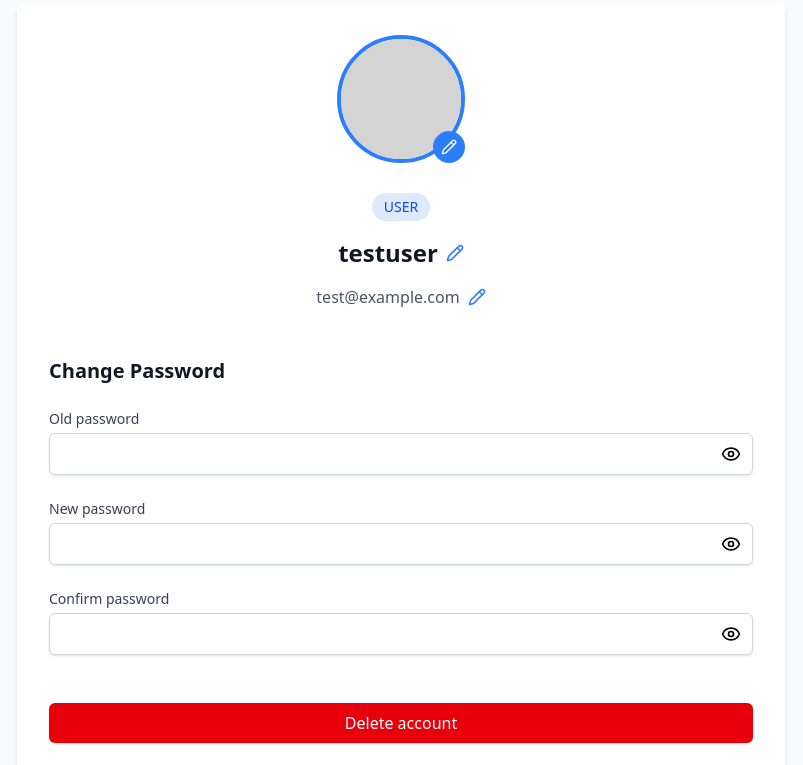
Account Component › should show error message when updateUser fails
Expected: the heading "testuser" is shown, [338,237,438,269]
Click the button without text next to "testuser" at point(455, 253), box [446,244,464,262]
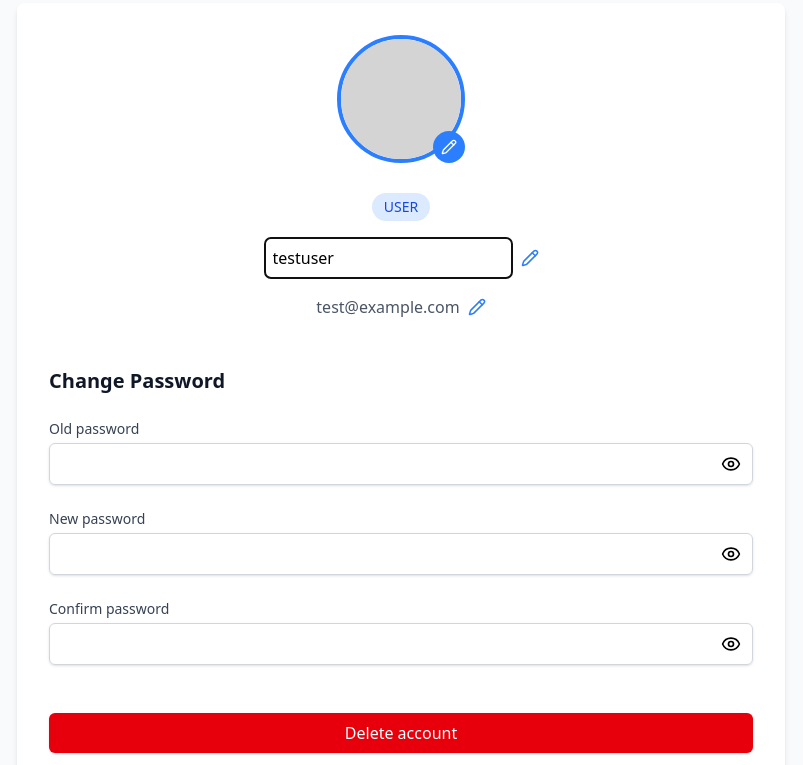
Replace the text in the field with "newuser" at point(388, 258), box [264,237,512,279]
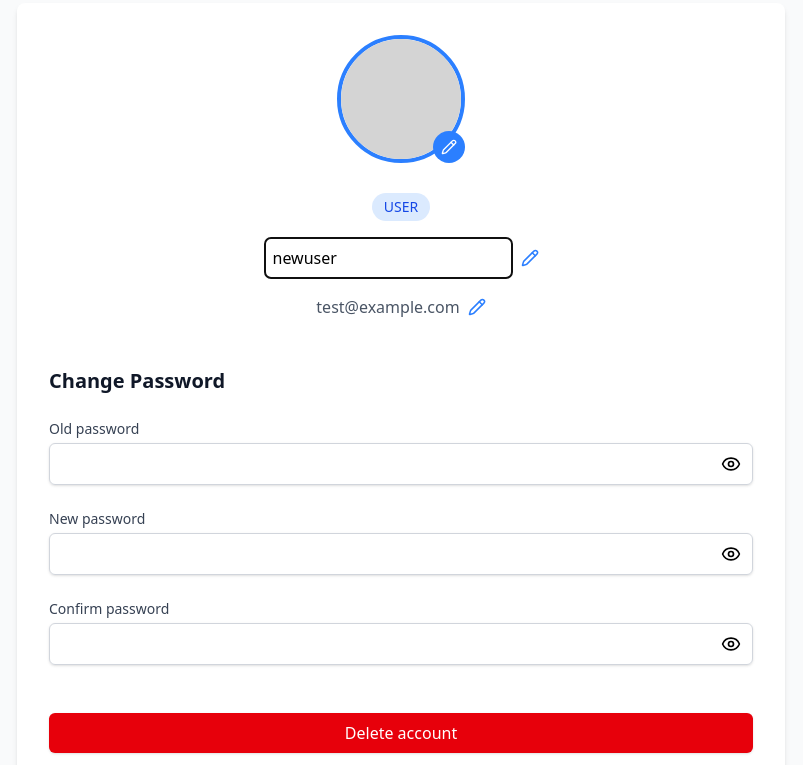
Submit the form from the field, box [264,237,512,279]
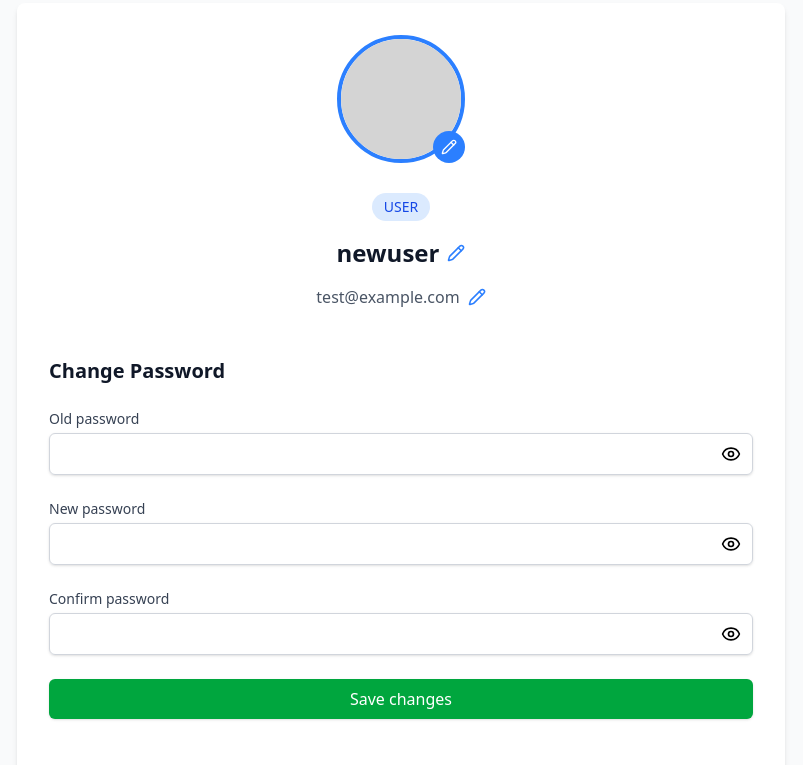
Click the button "Save changes" at point(401, 699), box [49,679,753,719]
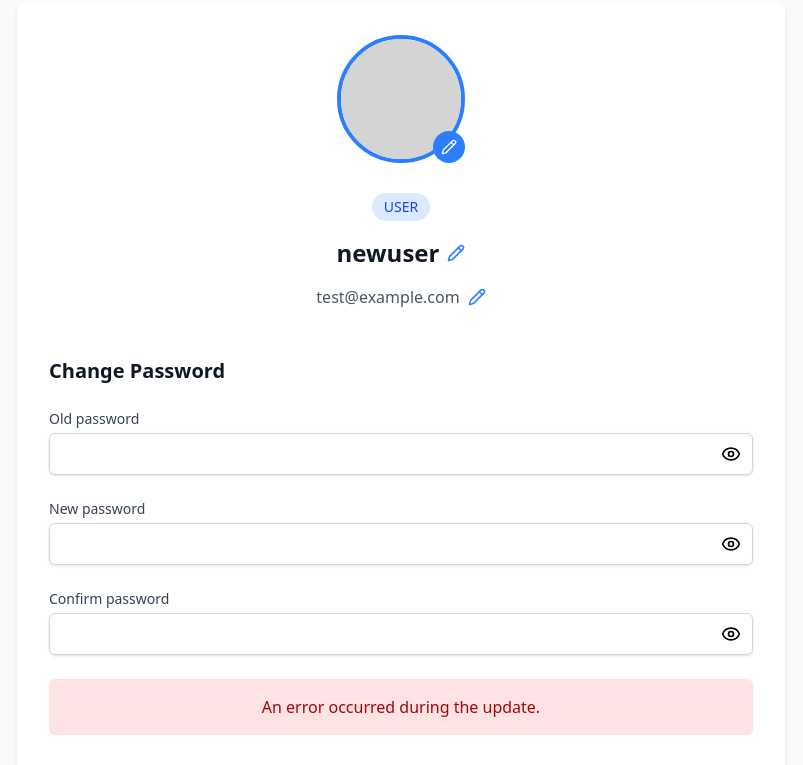
Result: the text "An error occurred during the update." is shown at [49,679,753,735]
